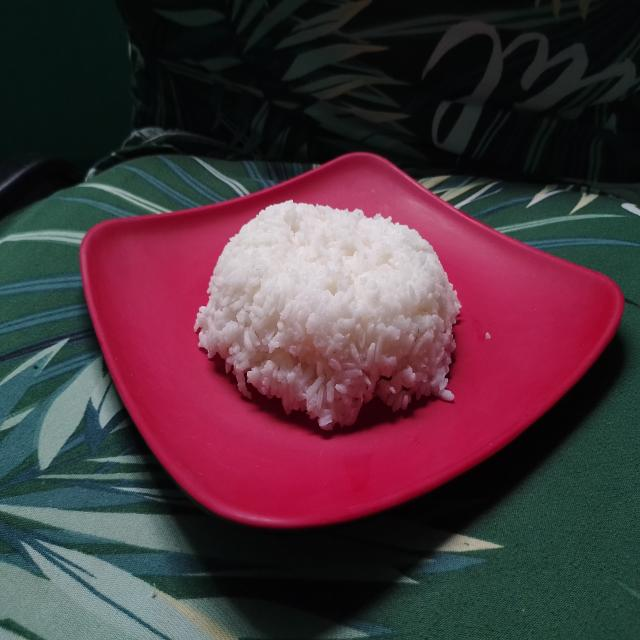Chicken -Chicken Inasal-: (202, 197, 460, 417)
